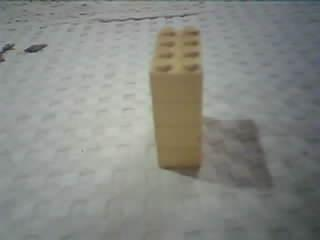lego: (146, 24, 205, 172)
